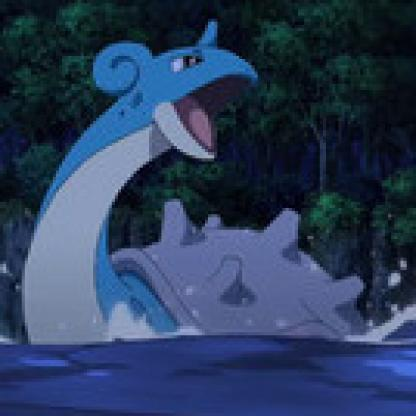Lapras: (1, 23, 414, 370)
